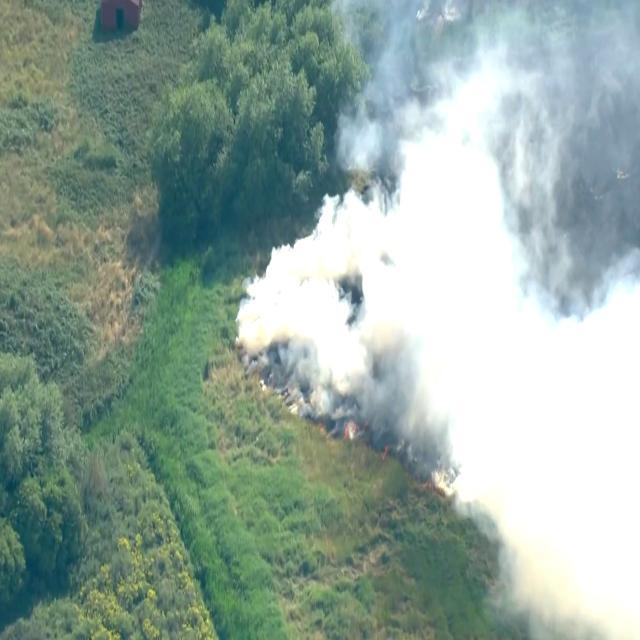Smoke: (452, 278, 533, 439)
